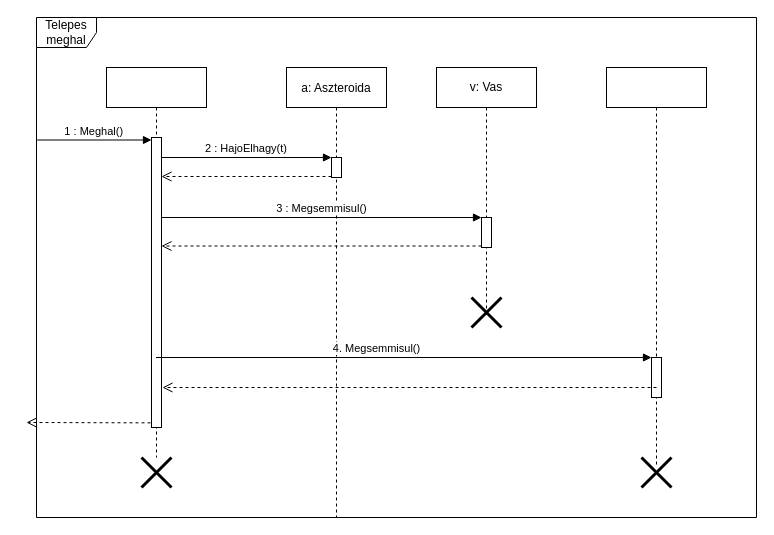
The diagram is 774 pixels wide and 535 high, and some of its shapes have lost their labels. Here are the shapes that lost their labels. From the top down, the box of each, then its label:
(106, 66, 206, 458): t: Telepes
(606, 66, 706, 468): tp: TeleportKapu
